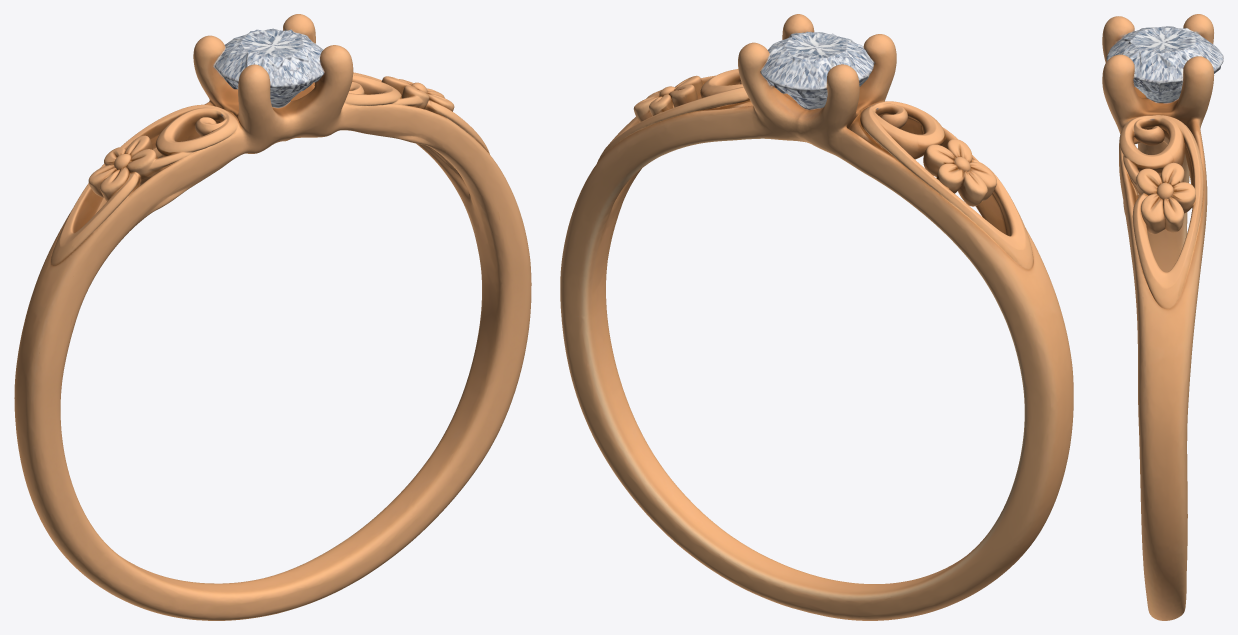
Rendered from solitaire2_sym.glb.
The picture shows the model from 3 angles, left to right: view 1: azimuth 30°, elevation 25°; view 2: azimuth 150°, elevation 25°; view 3: azimuth 270°, elevation 25°; orthographic projection. The views are drawn at different scales.
Size of the model in its own units: 1.75 by 1.9 by 0.3755.
1 material, 1 textured.
